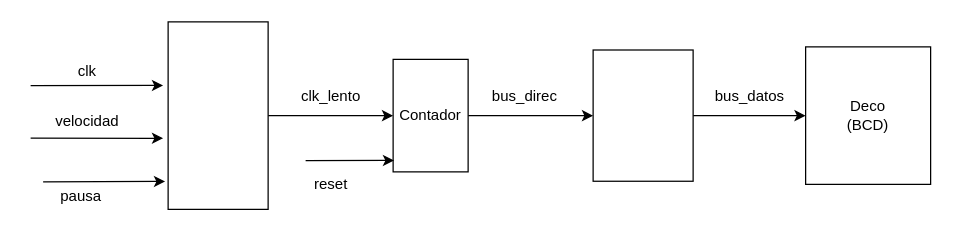
The diagram is 953 pixels wide and 231 high, and some of its shapes have lost their labels. Each missing label, with the box of its shape:
Reloj Lento: (167, 21, 268, 209)
ROM: (592, 49, 693, 181)
